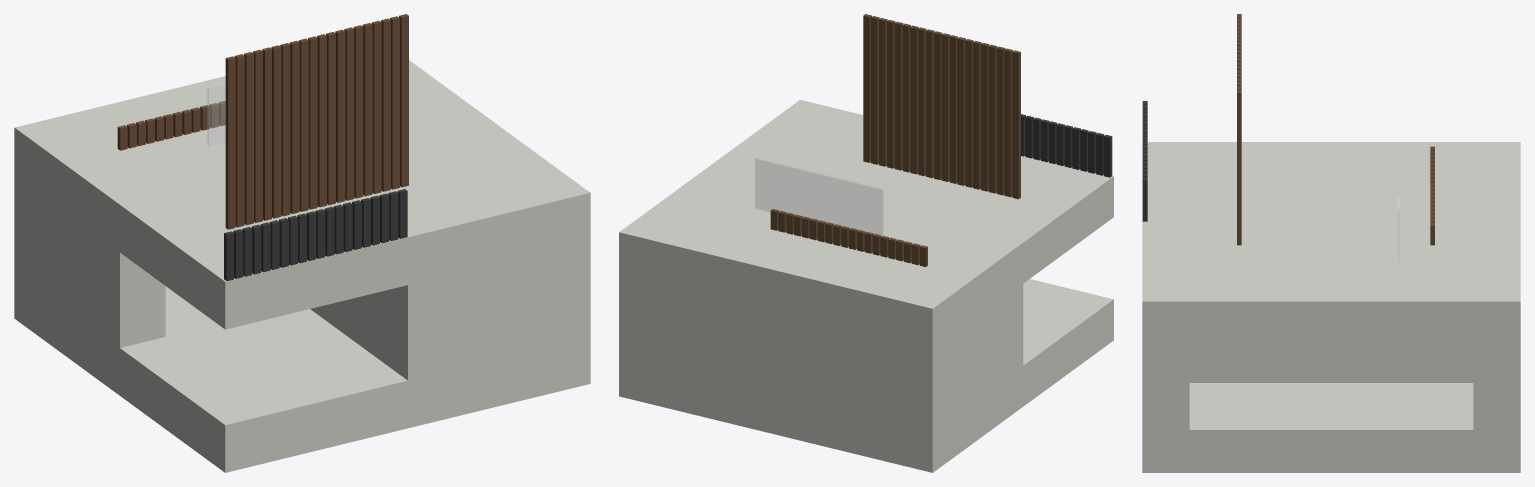
Rendered from home_constraction_center.glb.
3 renders of one model, left to right at view 1: azimuth 30°, elevation 25°; view 2: azimuth 150°, elevation 25°; view 3: azimuth 270°, elevation 25°, orthographic. The views are drawn at different scales.
Parts seen in each view (by area): view 1: Module_Cube_2x2x1, Module_Wood_Slats.001, Module_Wood_railings.002, Module_Wood_Slats.003, Module_L_Shape_Window.003; view 2: Module_Cube_2x2x1, Module_Wood_Slats.001, Module_L_Shape_Window.003, Module_Wood_railings.002, Module_Wood_Slats.003; view 3: Module_Cube_2x2x1, Module_Wood_Slats.001, Module_Wood_railings.002, Module_Wood_Slats.003.
Boxes of the visible parts, box(x1,y1,x2,y2) form: Module_Cube_2x2x1: box(14, 60, 590, 472); Module_Wood_Slats.001: box(225, 14, 408, 229); Module_Wood_railings.002: box(224, 189, 407, 280); Module_Wood_Slats.003: box(117, 101, 225, 150); Module_L_Shape_Window.003: box(207, 83, 225, 146); Module_Cube_2x2x1: box(619, 99, 1113, 472); Module_Wood_Slats.001: box(863, 14, 1020, 199); Module_L_Shape_Window.003: box(755, 158, 883, 236); Module_Wood_railings.002: box(1021, 114, 1112, 177); Module_Wood_Slats.003: box(770, 209, 927, 266); Module_Cube_2x2x1: box(1142, 142, 1520, 472); Module_Wood_Slats.001: box(1237, 14, 1241, 245); Module_Wood_railings.002: box(1142, 101, 1147, 221); Module_Wood_Slats.003: box(1430, 146, 1434, 245).
Bounding box in the file's own units: 4 × 3.78 × 4.
